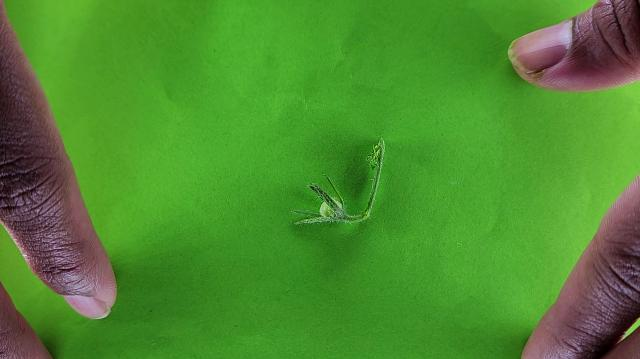Fruit Bud: (290, 180, 349, 226)
